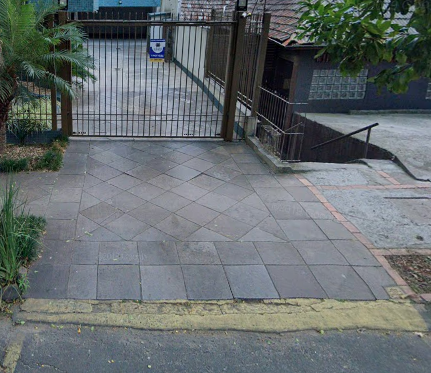vag53: (27, 243, 403, 360)
